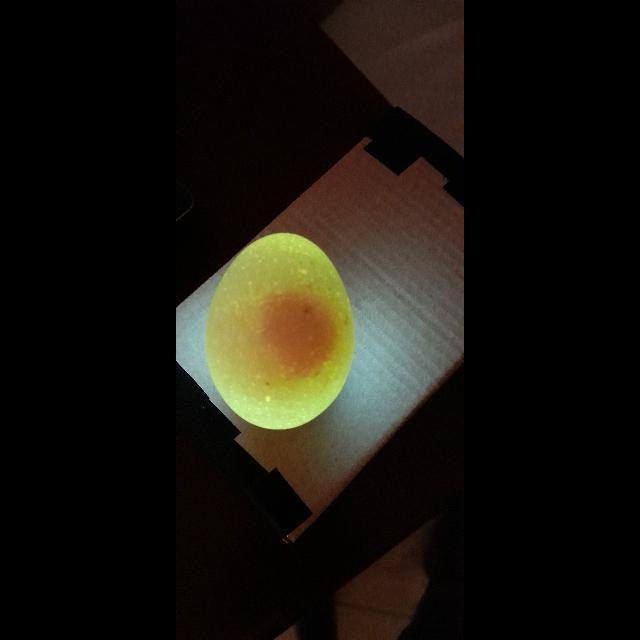Fertile: (206, 226, 350, 434)
